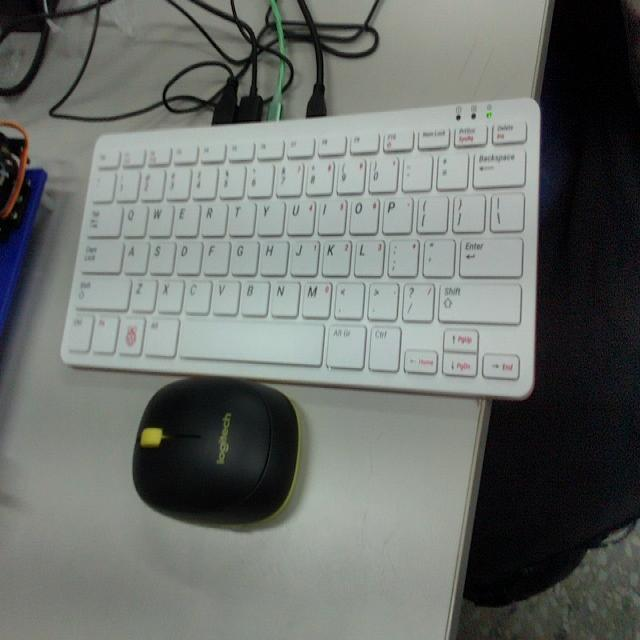keyboard: (65, 111, 534, 385)
